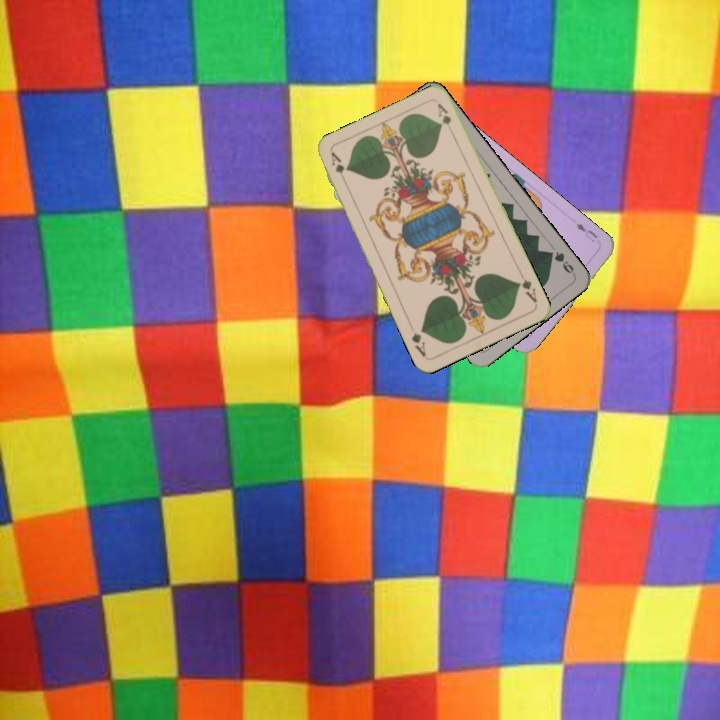EU: (572, 219, 601, 245)
G9: (543, 247, 577, 278)
GA: (513, 268, 540, 306), (327, 148, 348, 187)
